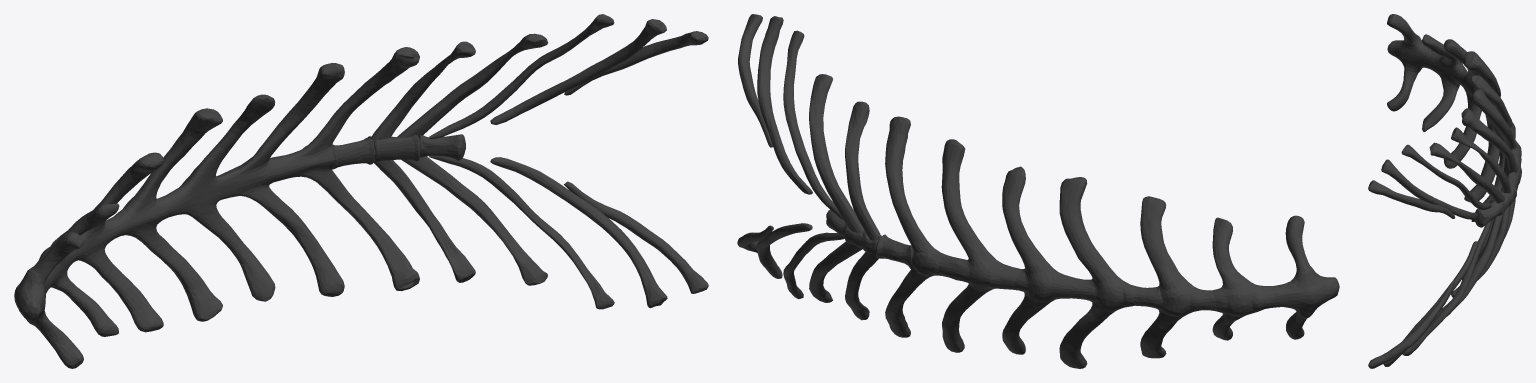
The model's file is Skeleton_15_LP.glb.
3 renders of one model, left to right at view 1: azimuth 30°, elevation 25°; view 2: azimuth 150°, elevation 25°; view 3: azimuth 270°, elevation 25°, orthographic. The views are drawn at different scales.
Parts seen in each view (by area): view 1: Skeleton_15_LP; view 2: Skeleton_15_LP; view 3: Skeleton_15_LP.
Boxes of the visible parts, x1,y1,x2,y2 form: Skeleton_15_LP: [14, 14, 708, 368]; Skeleton_15_LP: [737, 14, 1339, 368]; Skeleton_15_LP: [1368, 14, 1521, 368].
Bounding box in the file's own units: 0.7469 × 0.3157 × 0.209.
1 material, 1 textured.
